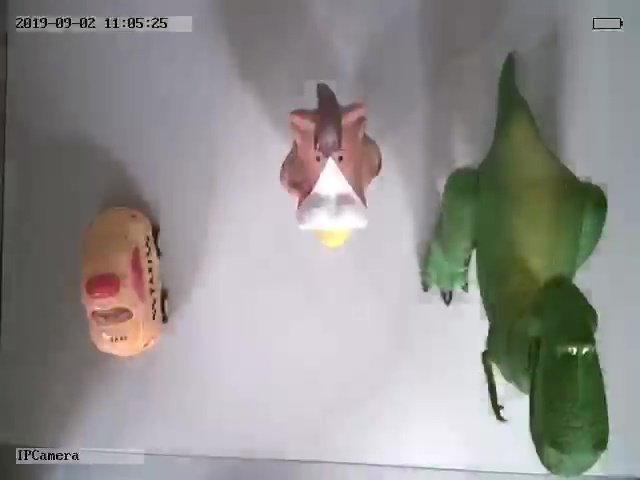car: (78, 206, 171, 357)
horse: (277, 77, 384, 249)
rex: (420, 59, 610, 477)
